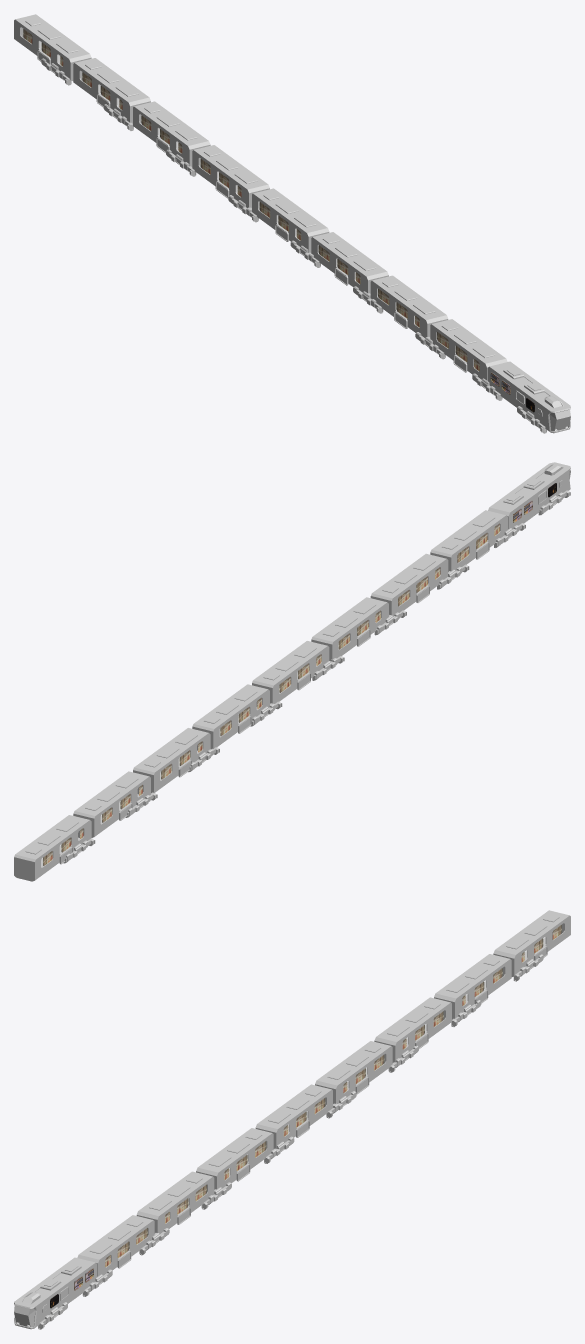
The model's file is Train.fbx.
The picture shows the model from 3 angles, top to bottom: view 1: azimuth 30°, elevation 25°; view 2: azimuth 150°, elevation 25°; view 3: azimuth 330°, elevation 25°; orthographic projection.
Parts seen in each view (by area): view 1: Cube.075, Cube.065, Cube.129, Cube.076; view 2: Cube.075, Cube.129, Cube.065, Cube.076; view 3: Cube.075, Cube.065, Cube.129, Cube.076.
Part boxes in pixels (x1,y1,x2,y2): Cube.075: (14,14,507,380); Cube.065: (487,361,570,433); Cube.129: (23,29,479,370); Cube.076: (41,58,445,359); Cube.075: (14,510,507,881); Cube.129: (43,523,499,865); Cube.065: (488,462,570,529); Cube.076: (63,564,469,863); Cube.075: (77,910,570,1276); Cube.065: (14,1257,97,1329); Cube.129: (105,925,561,1266); Cube.076: (139,954,543,1255).
Bounding box in the file's own units: 458 × 437 × 14754.
Materials: 4 (3 with a texture image).
